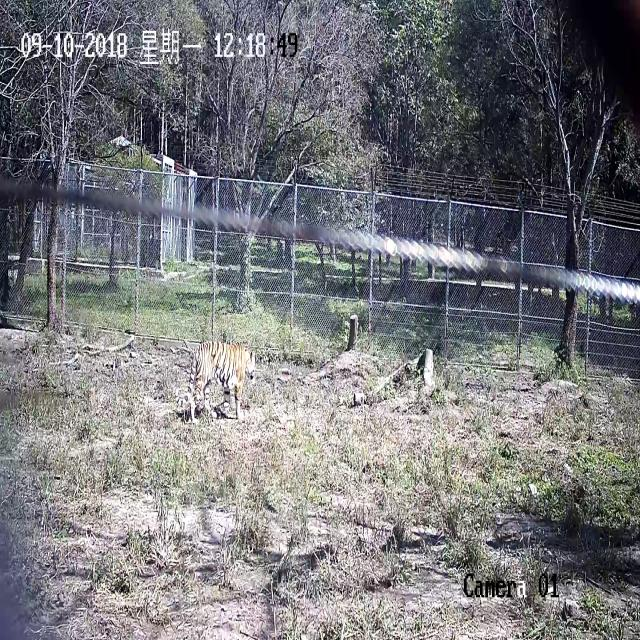Tiger: (150, 294, 280, 456)
